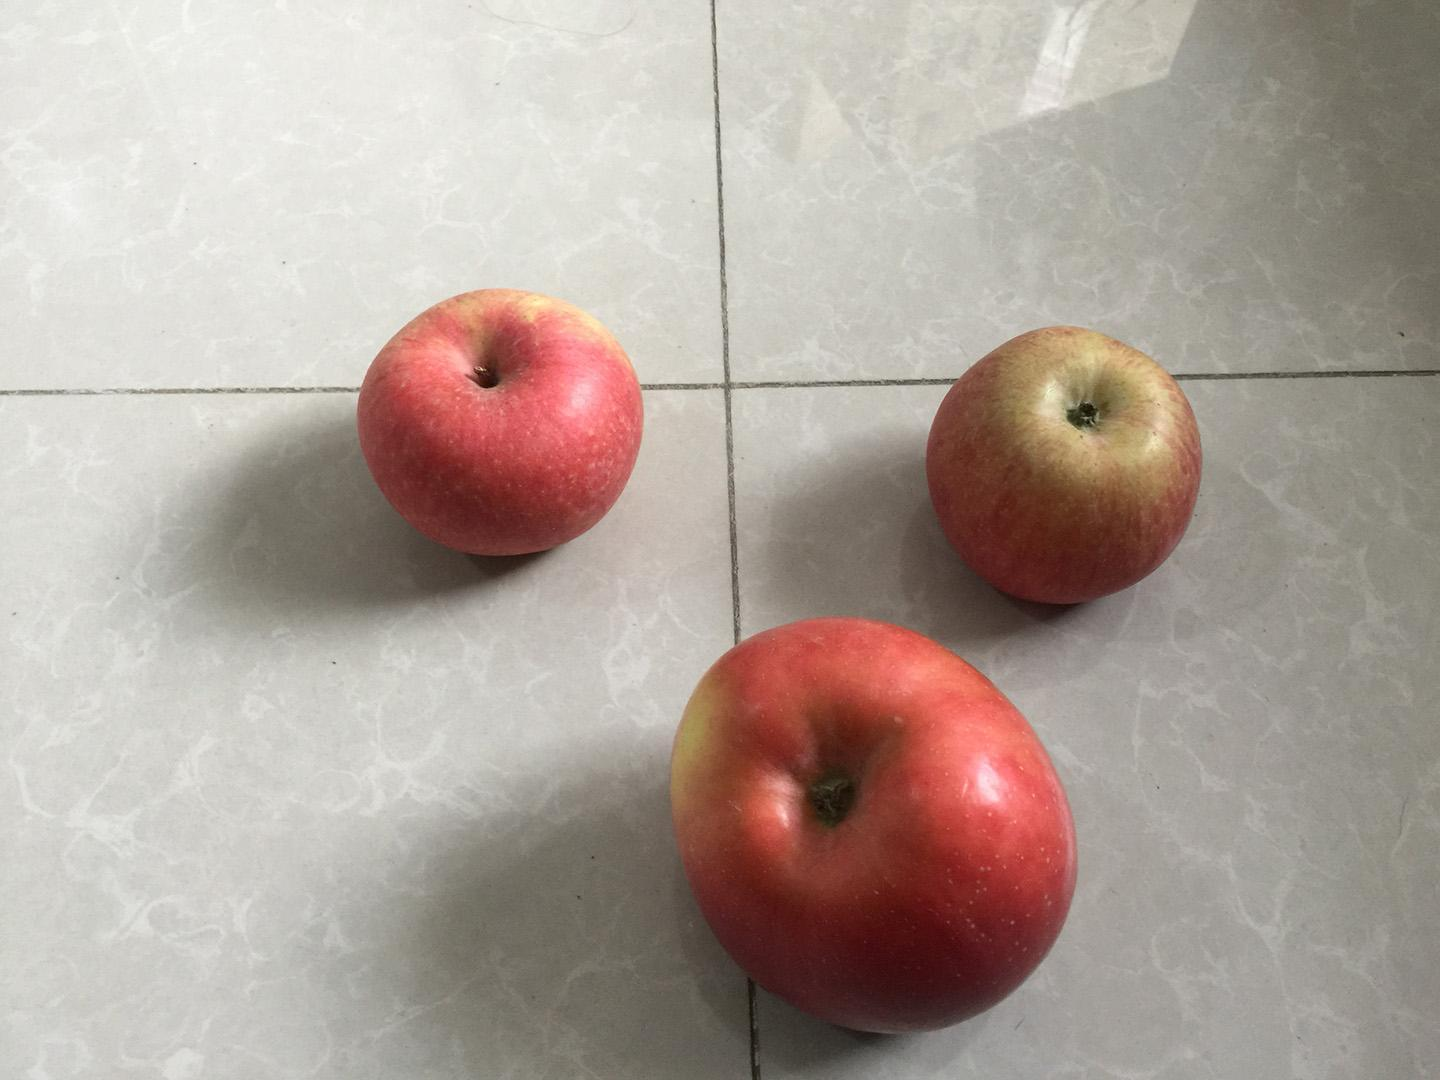apple: (652, 602, 1092, 1039), (920, 320, 1212, 611), (350, 279, 651, 562)
